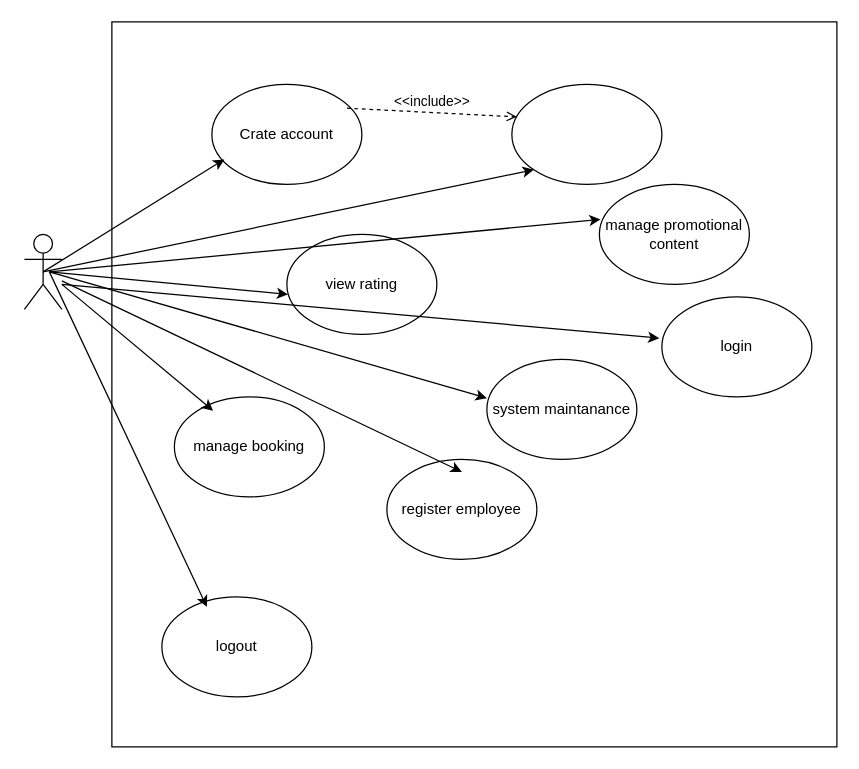
The diagram is 859 pixels wide and 769 high, and some of its shapes have lost their labels. Each missing label, with the centre of its shape:
"Admin" goes at [42,271].
"manage users" goes at [586,133].
